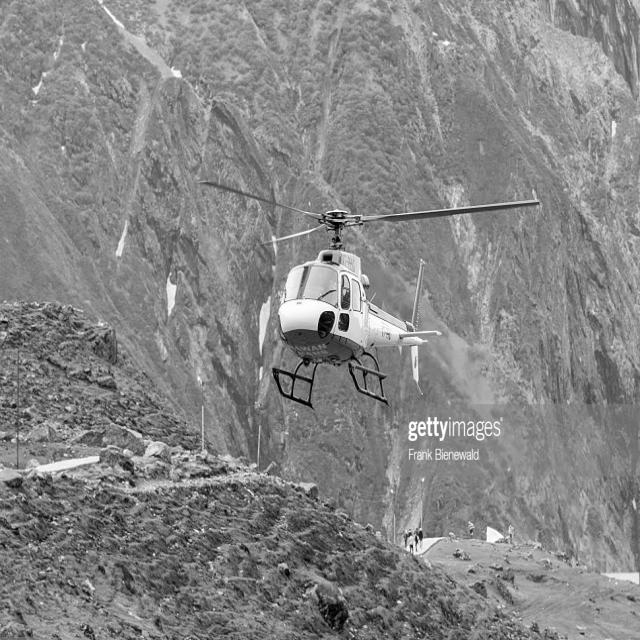helicopter: (205, 184, 533, 415)
